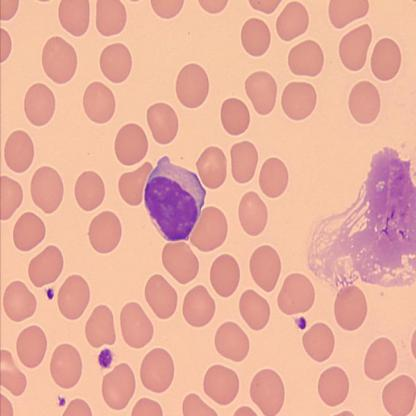Atypical lymphocyte: (144, 156, 210, 243)
